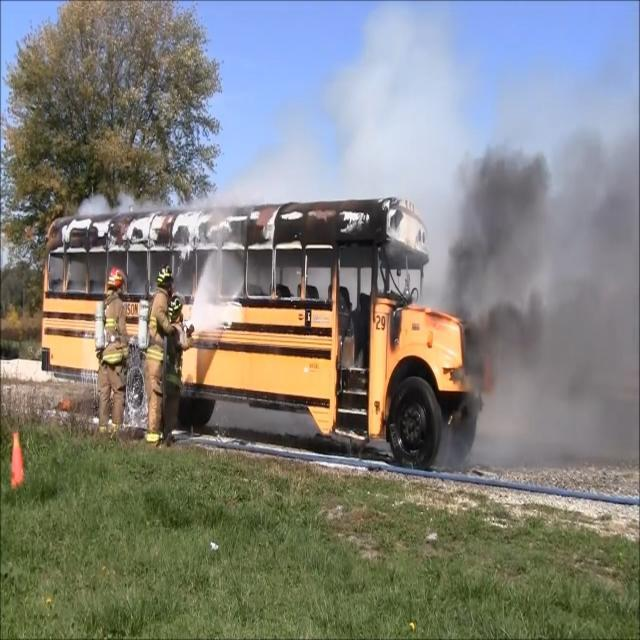Smoke: (471, 158, 640, 414)
